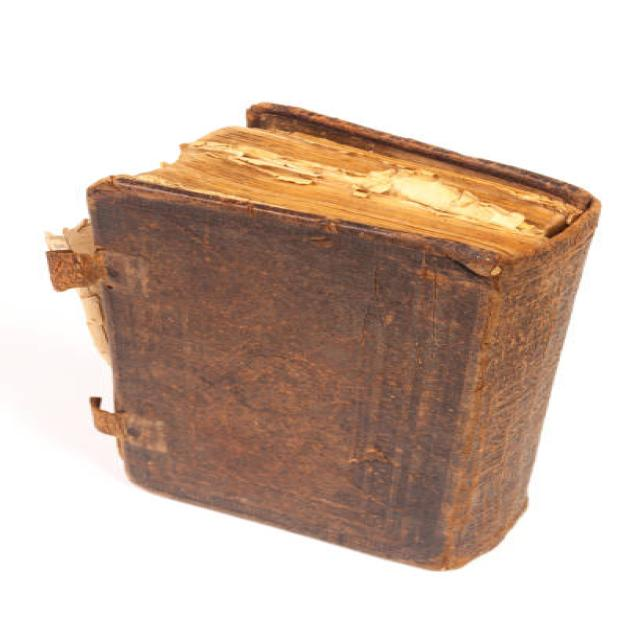electronic: (42, 100, 602, 571)
